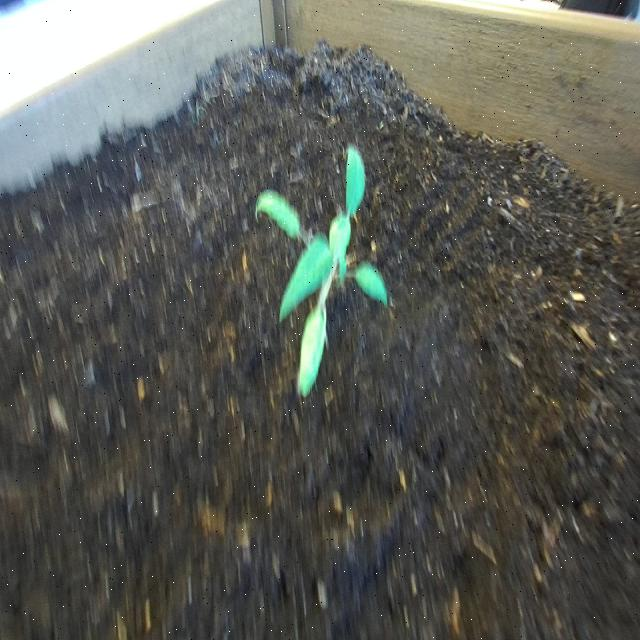Healthy: (248, 138, 395, 408)
